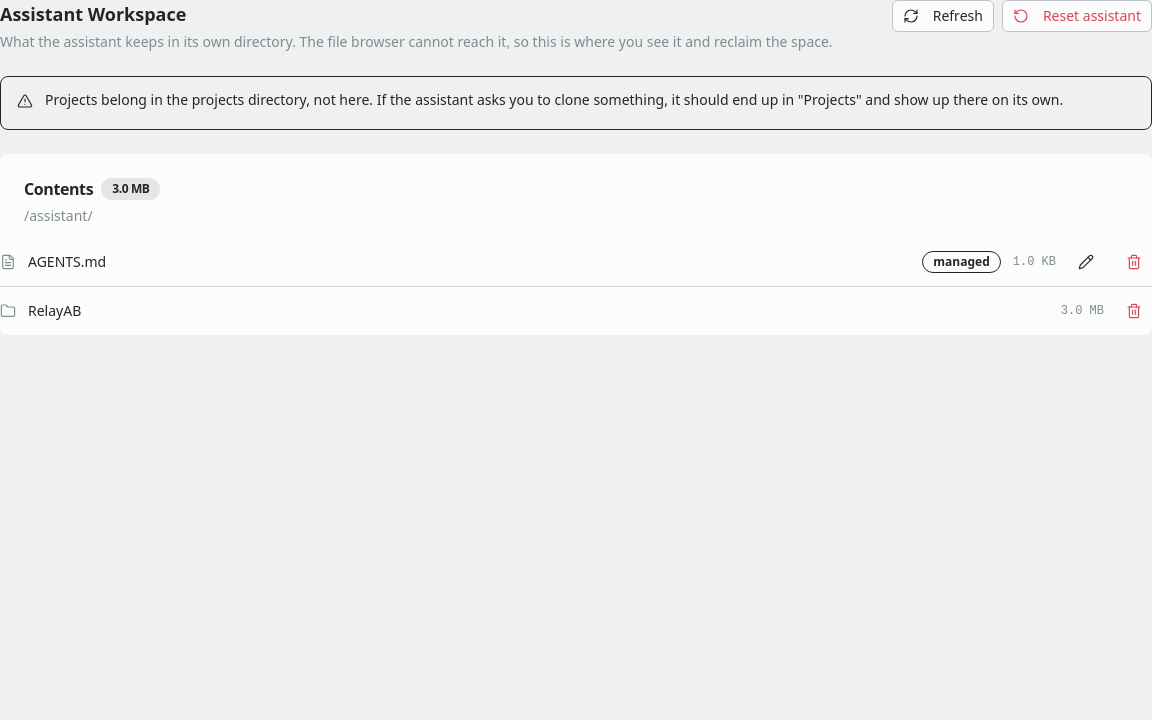
Test case: AssistantWorkspaceSettings › never hands a directory to the file-reading API
Click the button named "Edit AGENTS.md".
click(1086, 262)  # box [1068, 246, 1104, 278]
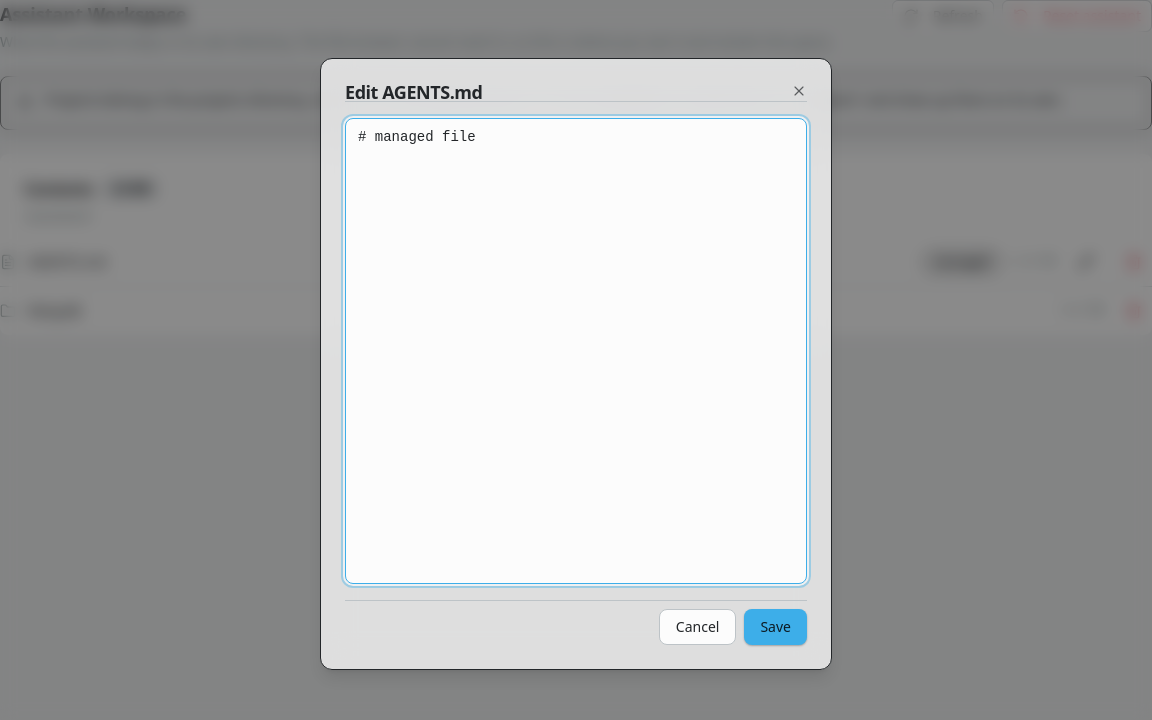
Check: the text box named "AGENTS.md" is shown, box [345, 118, 807, 584]
